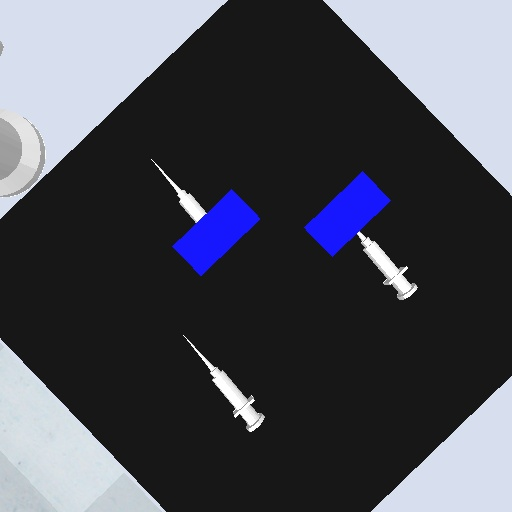jeringuilla: (180, 332, 269, 434), (356, 229, 420, 304), (148, 155, 209, 225)
